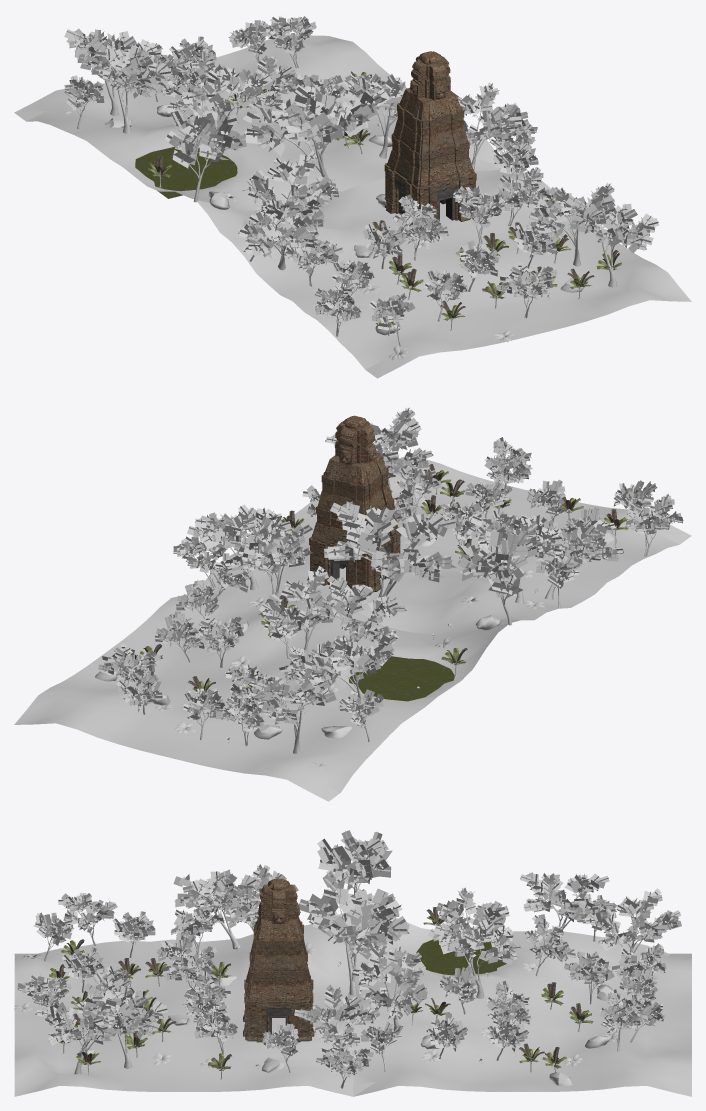
File: O_004_ground_03_02.fbx
The picture shows the model from 3 angles, top to bottom: view 1: azimuth 30°, elevation 25°; view 2: azimuth 150°, elevation 25°; view 3: azimuth 270°, elevation 25°; orthographic projection. The views are drawn at different scales.
Visible parts, largest first — view 1: ground004, ground002, tree02, tree019, tree01, tree094, tree017, ruins_4F001, tree049, ruins_2F001, tree078, swamp (+27 smaller); view 2: ground002, ground004, tree02, tree01, swamp, ruins_4F001, tree078, tree094, tree084, tree085, tree077, tree091 (+27 smaller); view 3: ground002, ground004, tree02, tree085, tree094, tree091, tree01, tree077, tree049, tree050, tree084, ruins_4F001 (+31 smaller).
Boxes of the visible parts, <box> form: ground004: <box>197,169,691,378</box>; ground002: <box>14,34,500,211</box>; tree02: <box>242,83,390,200</box>; tree019: <box>238,190,324,270</box>; tree01: <box>165,107,246,202</box>; tree094: <box>80,37,171,133</box>; tree017: <box>242,151,340,243</box>; ruins_4F001: <box>399,51,461,120</box>; tree049: <box>565,195,659,287</box>; ruins_2F001: <box>387,133,474,187</box>; tree078: <box>166,67,272,150</box>; swamp: <box>135,147,237,198</box>; ground002: <box>14,593,508,801</box>; ground004: <box>205,458,691,634</box>; tree02: <box>323,501,458,623</box>; tree01: <box>458,530,527,625</box>; swamp: <box>348,656,472,701</box>; ruins_4F001: <box>323,415,386,485</box>; tree078: <box>312,575,406,642</box>; tree094: <box>304,631,398,714</box>; tree084: <box>187,504,291,590</box>; tree085: <box>223,524,312,596</box>; tree077: <box>258,566,353,660</box>; tree091: <box>255,667,336,753</box>; ground002: <box>353,917,691,1096</box>; ground004: <box>14,913,353,1096</box>; tree02: <box>299,871,409,997</box>; tree085: <box>352,942,427,1032</box>; tree094: <box>520,872,614,949</box>; tree091: <box>583,888,681,977</box>; tree01: <box>317,830,392,894</box>; tree077: <box>428,919,521,998</box>; tree049: <box>35,992,134,1074</box>; tree050: <box>82,983,167,1068</box>; tree084: <box>294,984,379,1066</box>; ruins_4F001: <box>255,878,302,940</box>.
Bounding box in the file's own units: 2312 × 1046 × 3940.
